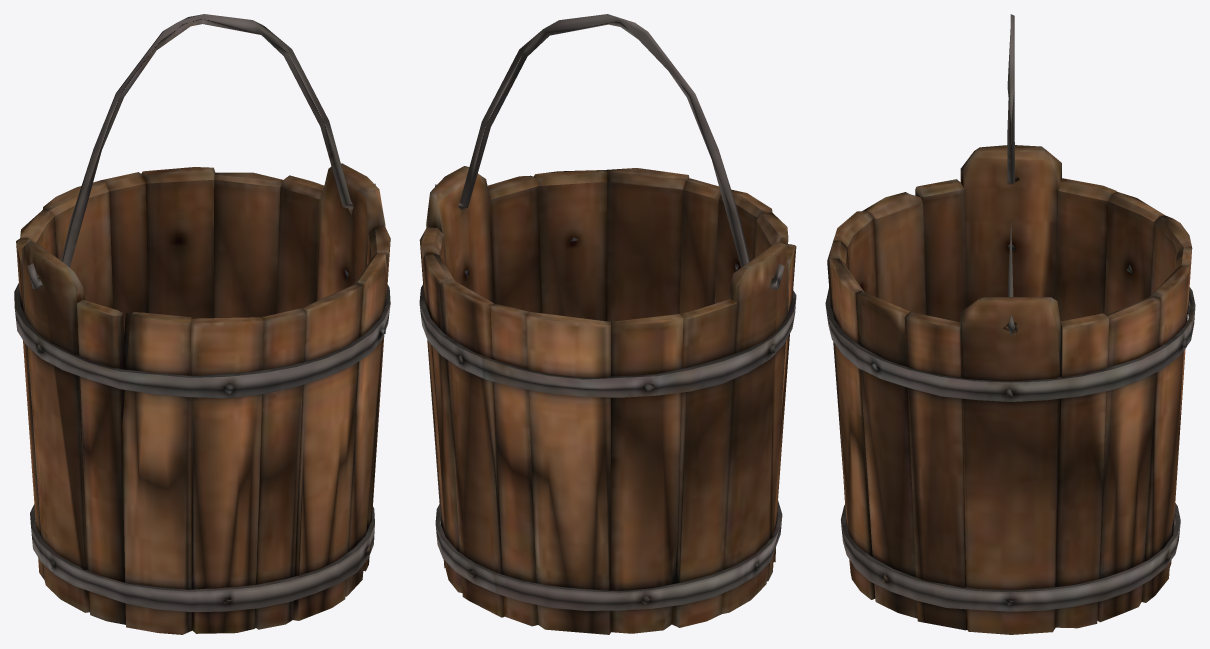
Rendered from wooden_bucket_01.glb.
The picture shows the model from 3 angles, left to right: view 1: azimuth 30°, elevation 25°; view 2: azimuth 150°, elevation 25°; view 3: azimuth 270°, elevation 25°; orthographic projection.
Visible parts, largest first — view 1: wooden_bucket_01, wooden_bucket_01_handle; view 2: wooden_bucket_01, wooden_bucket_01_handle; view 3: wooden_bucket_01, wooden_bucket_01_handle.
Part boxes in pixels (box(x1,y1,x2,y2)): wooden_bucket_01: box(14, 163, 390, 634); wooden_bucket_01_handle: box(27, 14, 375, 288); wooden_bucket_01: box(419, 166, 796, 634); wooden_bucket_01_handle: box(435, 14, 784, 289); wooden_bucket_01: box(825, 145, 1195, 634); wooden_bucket_01_handle: box(1007, 14, 1015, 335).
Size of the model in its own units: 0.3647 by 0.5493 by 0.3406.
1 material, 1 textured.
